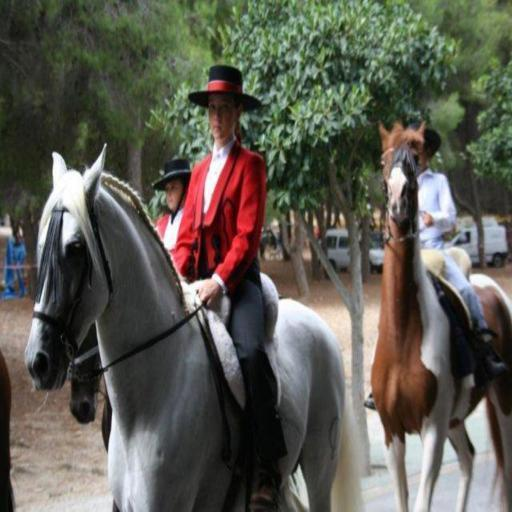horse: (24, 138, 367, 511), (370, 119, 512, 511), (66, 323, 112, 451), (0, 347, 15, 511)
